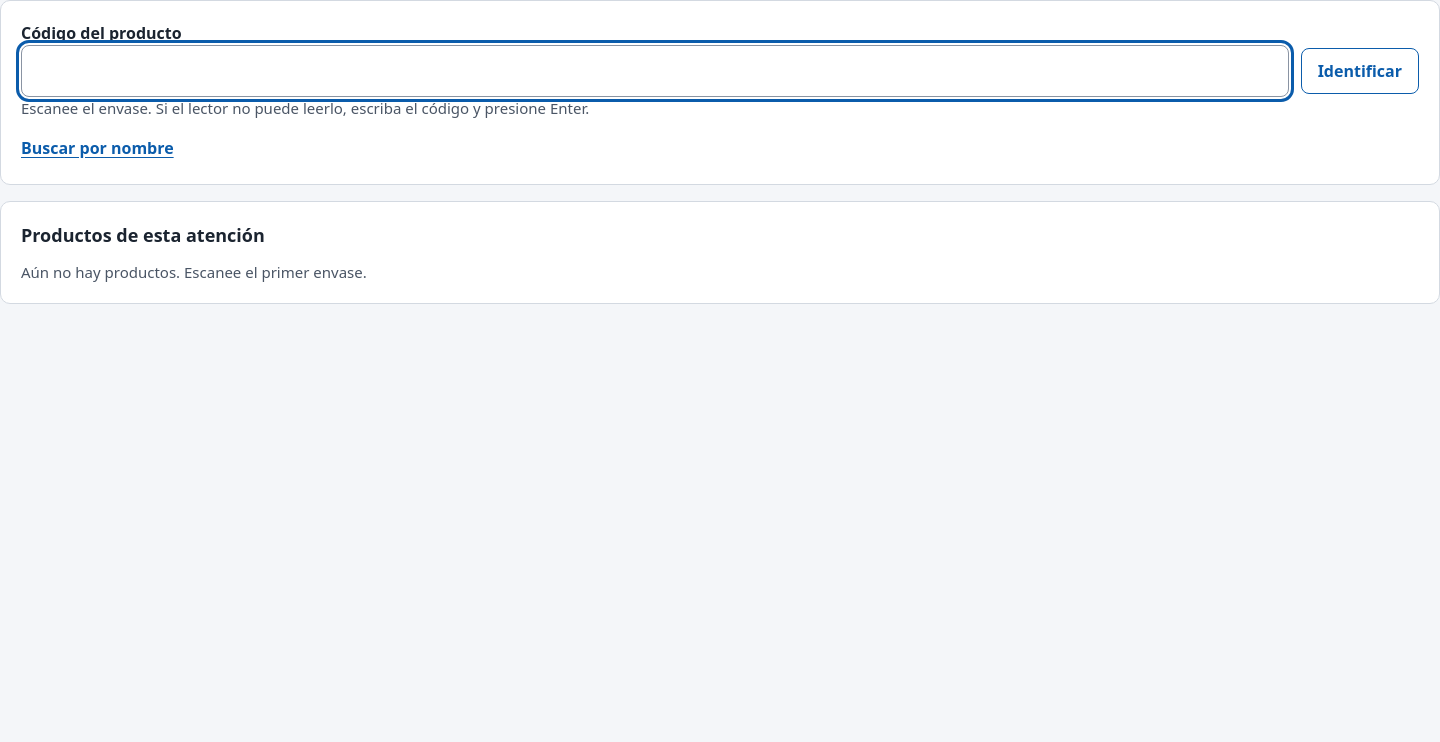
Test: Tramo entregado en el mesón (HU-04) › 180 días indicados y 60 comprimidos a uno diario: el retiro cubre 60 días y dice hasta cuándo
Type keys "7802250012344{Enter}"
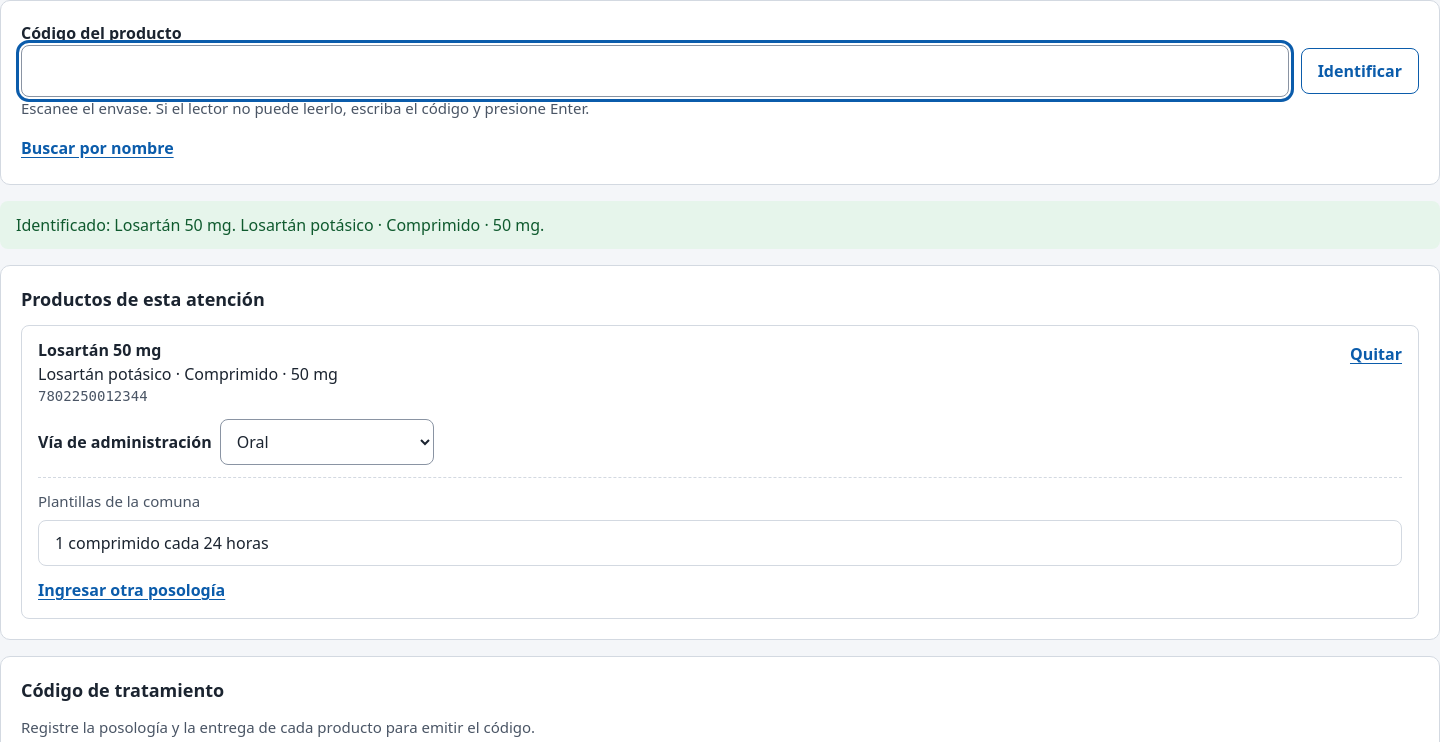
Click the button "1 comprimido cada 24 horas".
click(162, 543)  # box [38,520,1402,566]
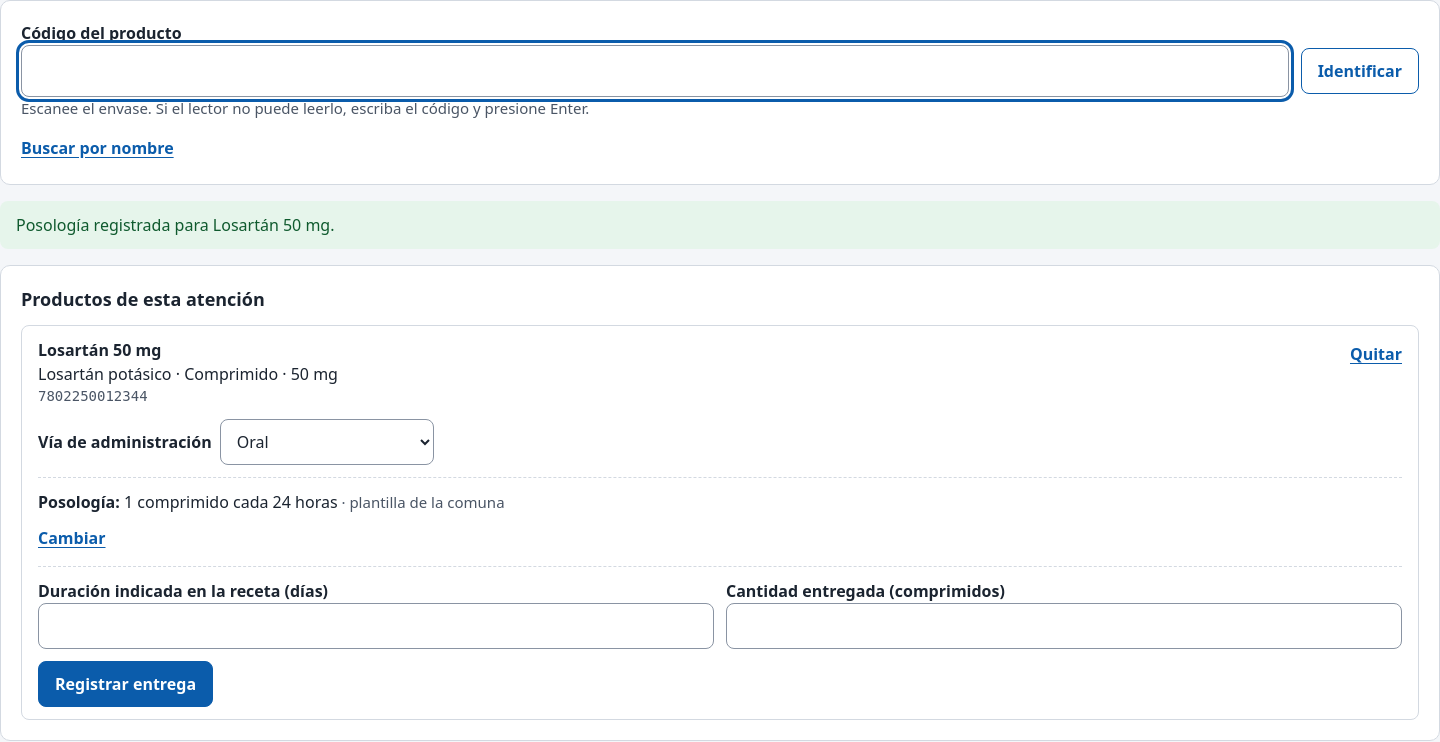
Type "180" into the field labelled "Duración indicada en la receta (días)".
click(376, 626); type("180")  # box [38,602,714,648]
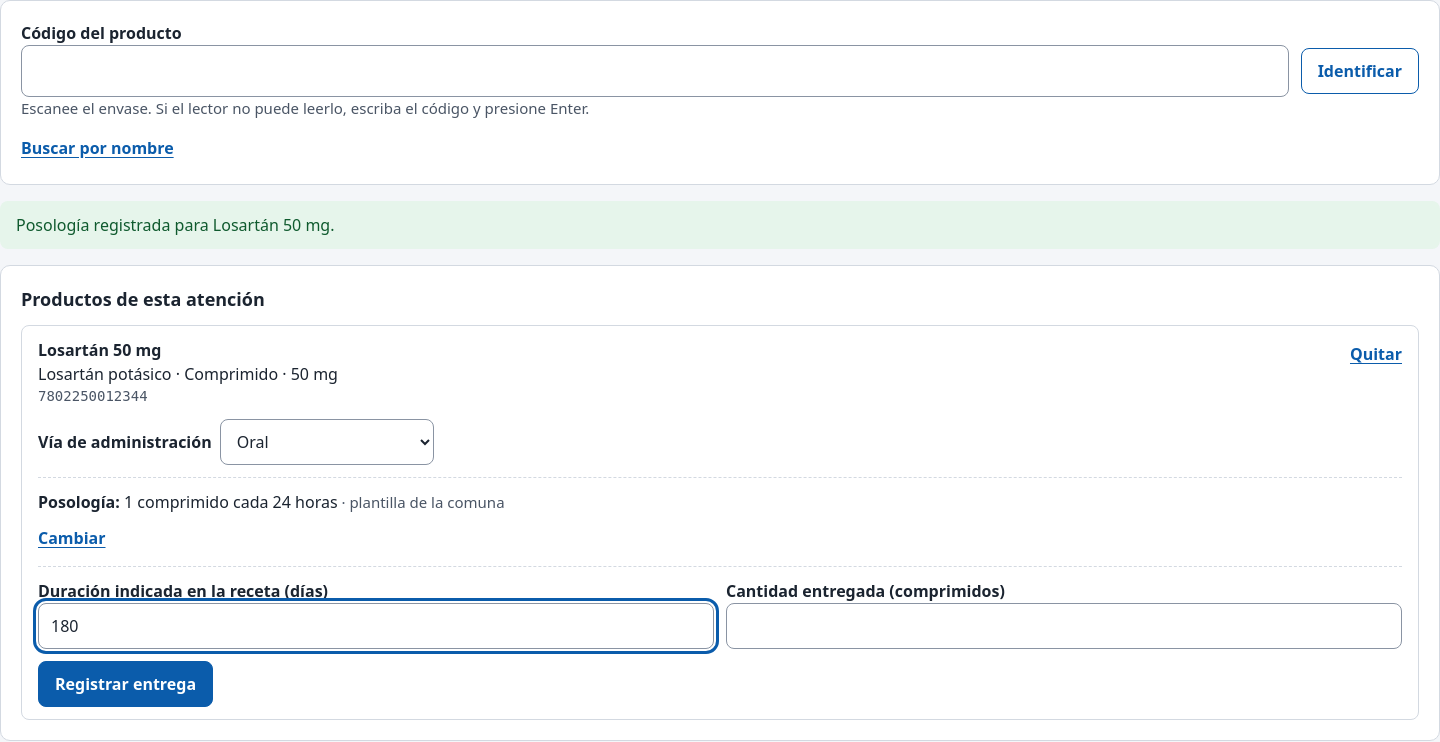
Type "60" into the field labelled "Cantidad entregada (comprimidos)".
click(1064, 626); type("60")  # box [726,602,1402,648]
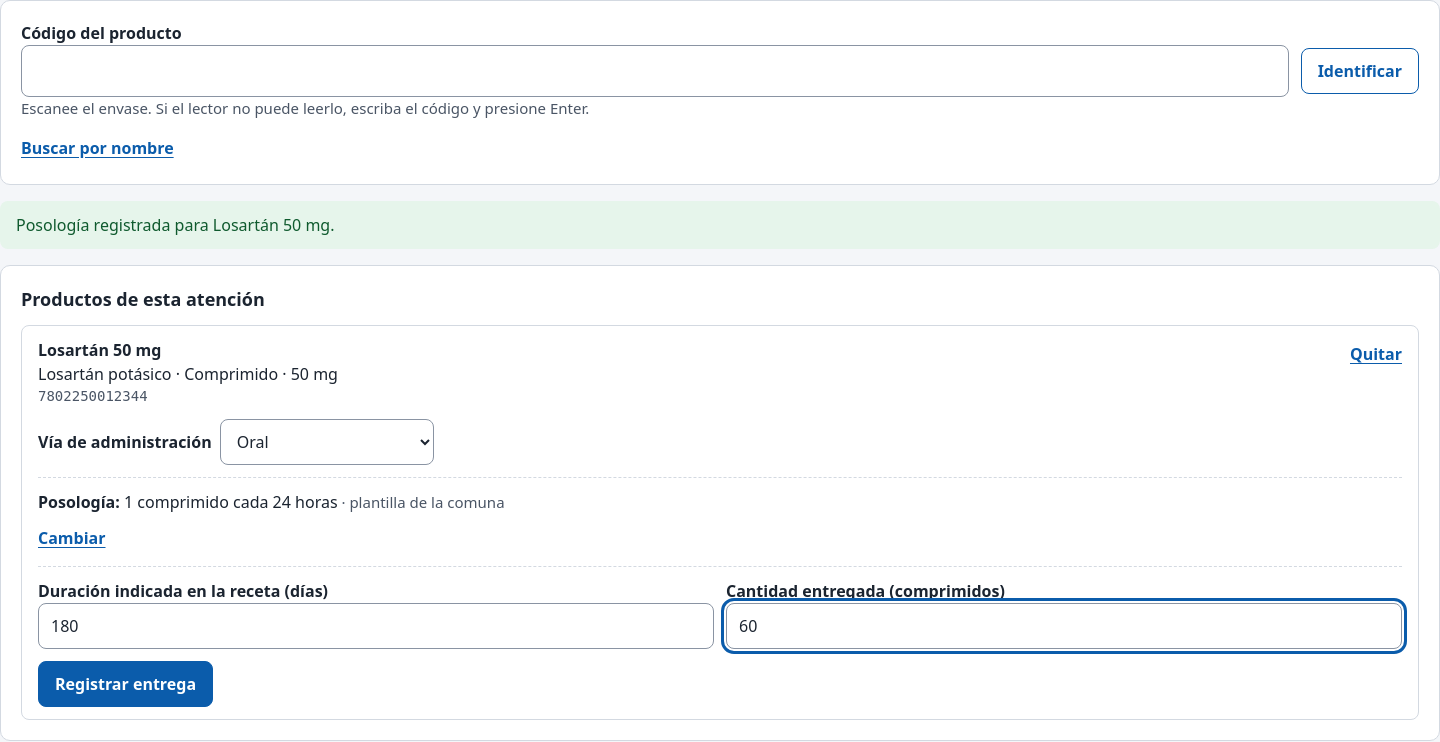
Click the button "Registrar entrega".
click(126, 684)  # box [38,660,213,706]
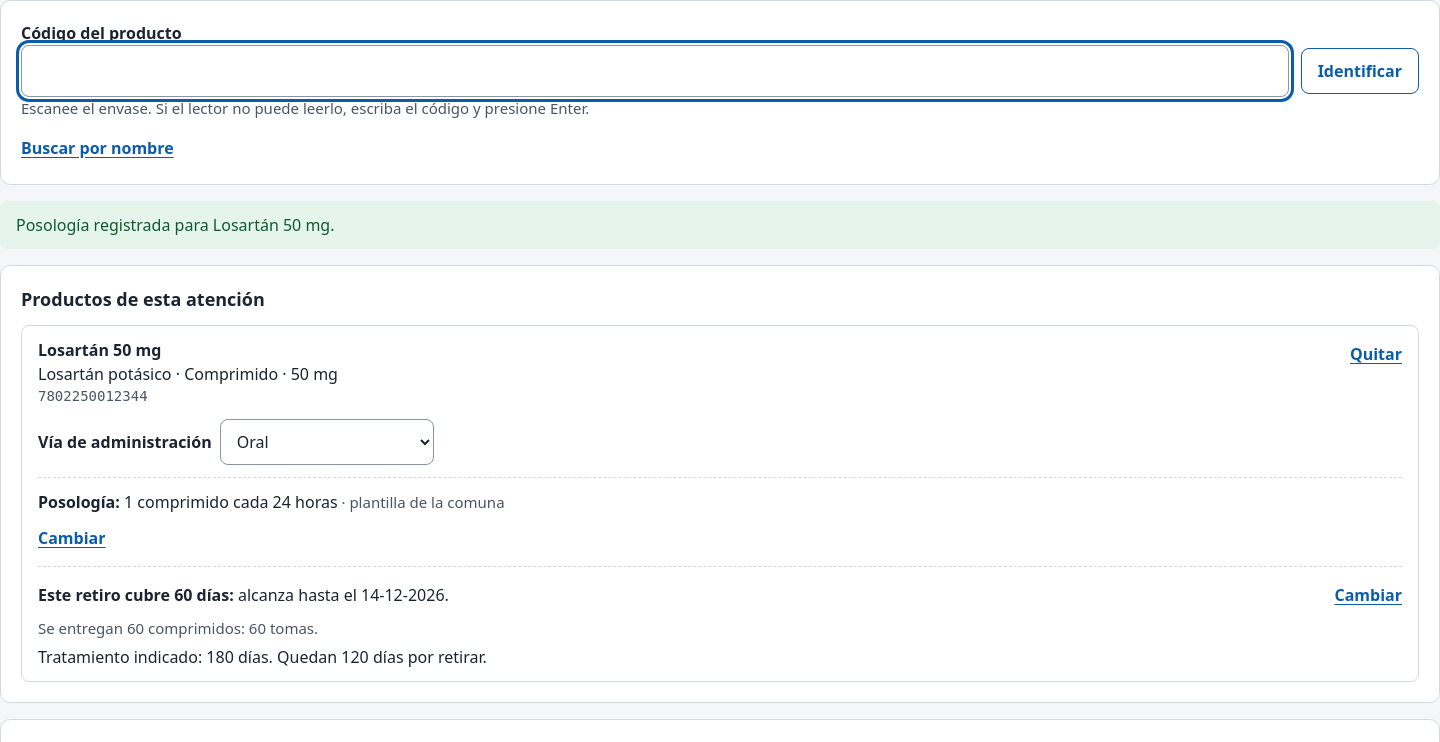
Result: the text "Este retiro cubre 60 días:" is shown at [38,584,234,606]
Result: the text "Este retiro cubre 60 días: alcanza hasta el 14-12-2026." is shown at [38,582,449,606]
Result: the text "Tratamiento indicado: 180 días. Quedan 120 días por retirar." is shown at [38,646,487,668]
